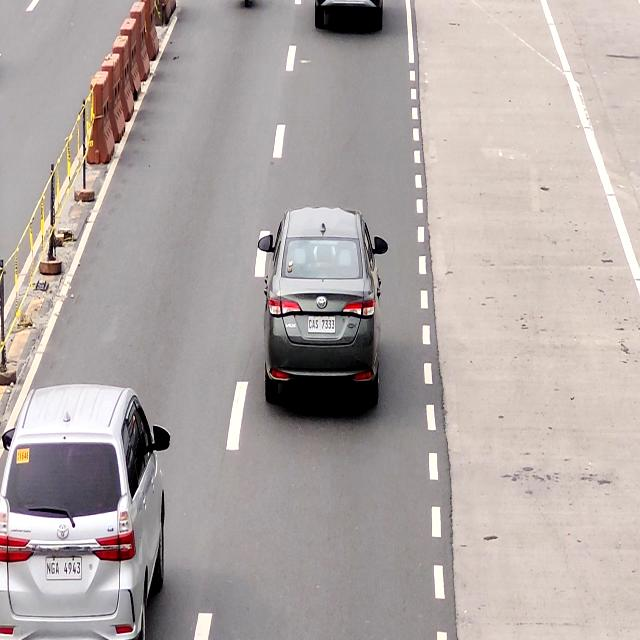Car: (0, 386, 167, 639), (265, 209, 382, 399)
License-Plate: (45, 554, 83, 582), (308, 317, 334, 337)
